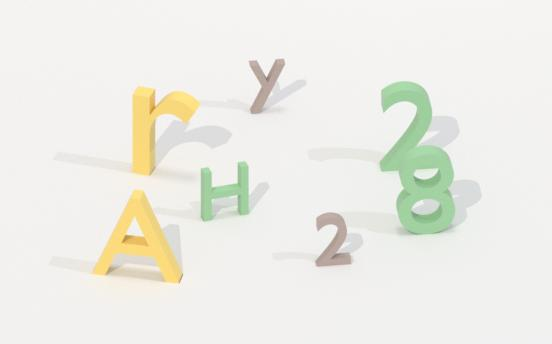2: (379, 77, 439, 177), (312, 208, 358, 270)
8: (391, 142, 460, 238)
A-hoa: (89, 185, 185, 288)
H-hoa: (197, 158, 252, 224)
R: (128, 83, 205, 182)
Y: (246, 55, 288, 117)
